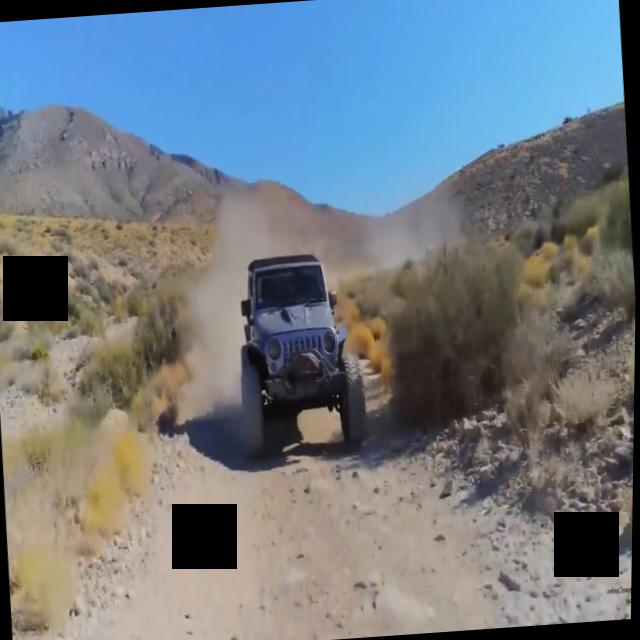Vehicle: (223, 244, 376, 468)
